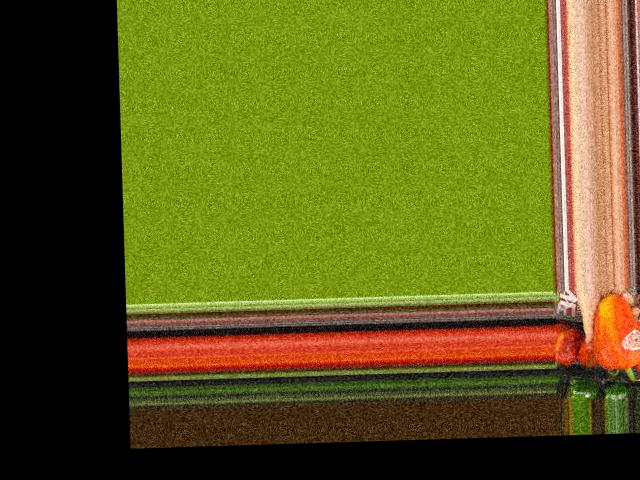bell_pepper: (585, 294, 640, 383)
